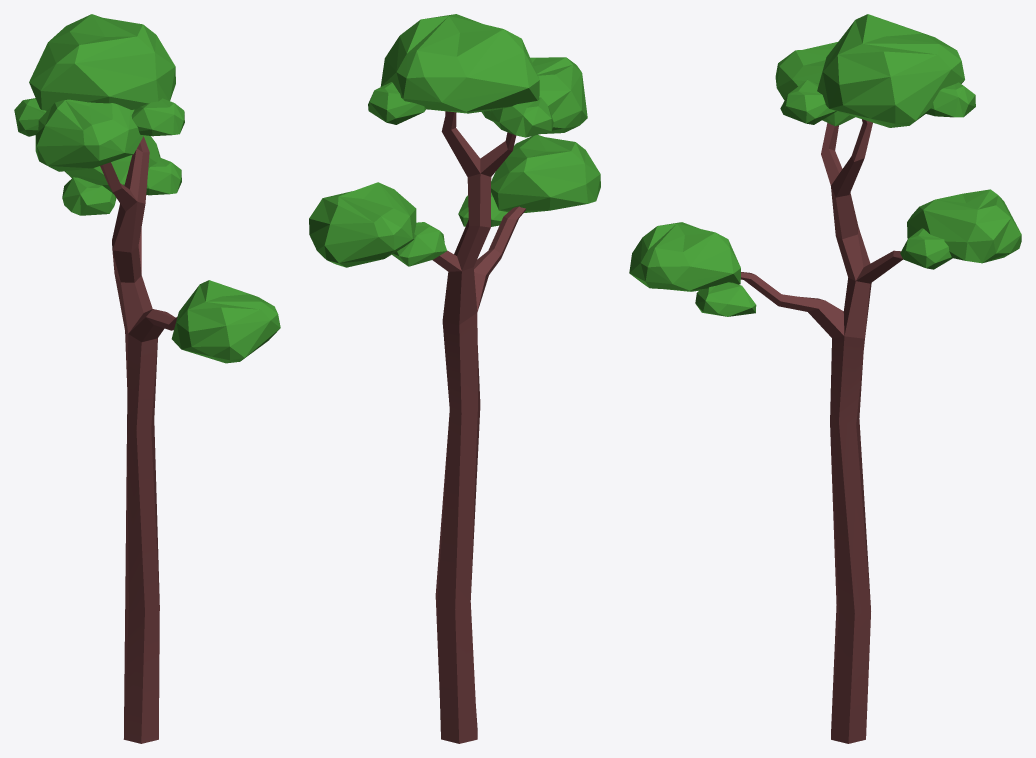
The model's file is SM_tree.fbx.
The picture shows the model from 3 angles, left to right: view 1: azimuth 30°, elevation 25°; view 2: azimuth 150°, elevation 25°; view 3: azimuth 270°, elevation 25°; orthographic projection. The views are drawn at different scales.
Parts seen in each view (by area): view 1: SM_Env_Tree_01; view 2: SM_Env_Tree_01; view 3: SM_Env_Tree_01.
Boxes of the visible parts, x1=… form: SM_Env_Tree_01: x1=14, y1=14, x2=280, y2=743; SM_Env_Tree_01: x1=309, y1=14, x2=600, y2=743; SM_Env_Tree_01: x1=629, y1=14, x2=1021, y2=743.
Size of the model in its own units: 260 by 909 by 464.
